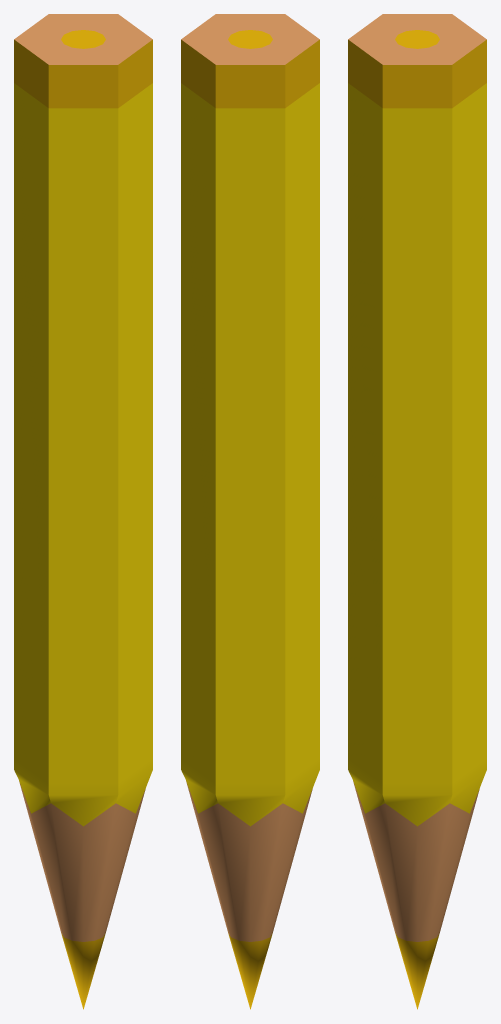
The model's file is Yellow Pencile.fbx.
The picture shows the model from 3 angles, left to right: view 1: azimuth 90°, elevation 25°; view 2: azimuth 150°, elevation 25°; view 3: azimuth 330°, elevation 25°; orthographic projection.
Visible parts, largest first — view 1: Cylinder.002; view 2: Cylinder.002; view 3: Cylinder.002.
Boxes of the visible parts, x1,y1,x2,y2 form: Cylinder.002: (14, 14, 152, 1009); Cylinder.002: (181, 14, 319, 1009); Cylinder.002: (348, 14, 486, 1009).
Size of the model in its own units: 174 by 1542 by 200.
